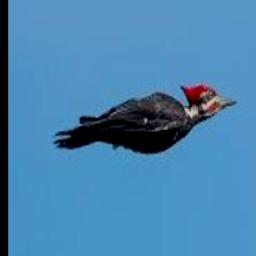Woodpecker: (52, 82, 235, 154)
